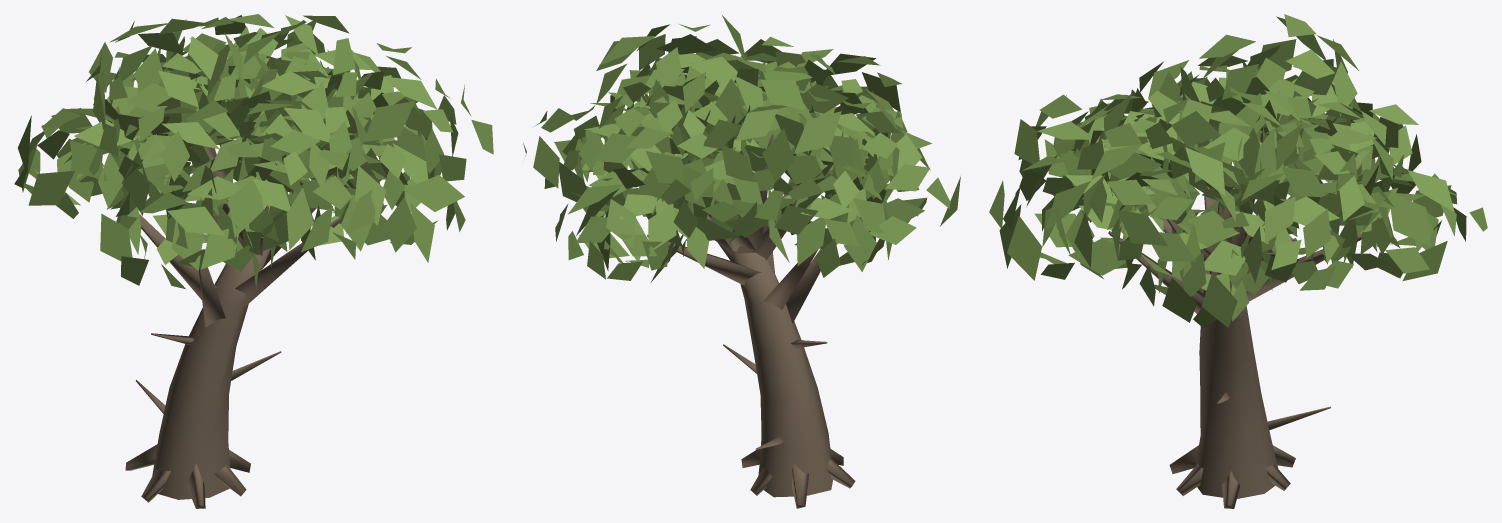
Rendered from oak-old-lod1.glb.
The picture shows the model from 3 angles, left to right: view 1: azimuth 30°, elevation 25°; view 2: azimuth 150°, elevation 25°; view 3: azimuth 270°, elevation 25°; orthographic projection. The views are drawn at different scales.
Parts seen in each view (by area): view 1: tree_oak-old_LOD1; view 2: tree_oak-old_LOD1; view 3: tree_oak-old_LOD1.
Part boxes in pixels (x1,y1,x2,y2): tree_oak-old_LOD1: (14, 14, 493, 508); tree_oak-old_LOD1: (523, 15, 960, 508); tree_oak-old_LOD1: (989, 14, 1487, 508).
Bounding box in the file's own units: 10.3 × 11.06 × 10.93.
